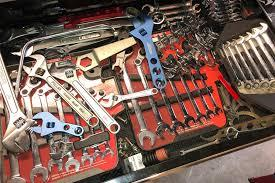wrench: (21, 53, 98, 126), (48, 58, 119, 133), (0, 53, 35, 154), (127, 12, 167, 87), (28, 109, 83, 136), (100, 86, 157, 107)
